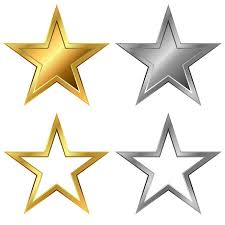star: (3, 1, 114, 111)
